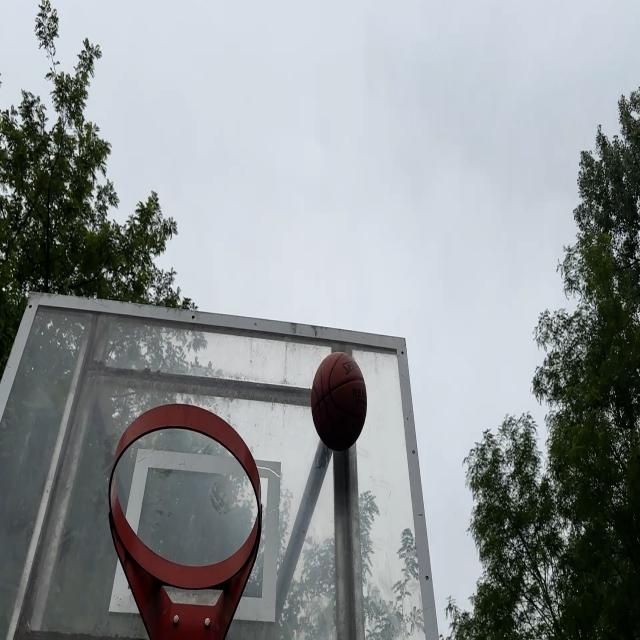rebound_hit: (311, 351, 368, 453)
